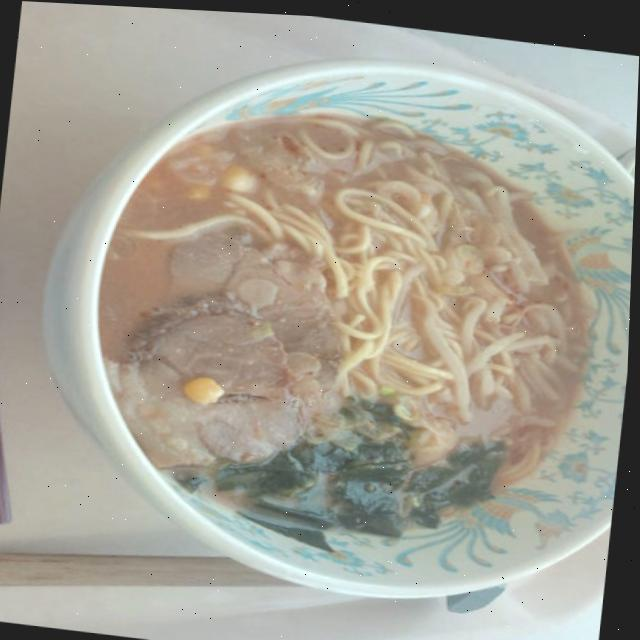面条主食: (79, 71, 638, 565)
